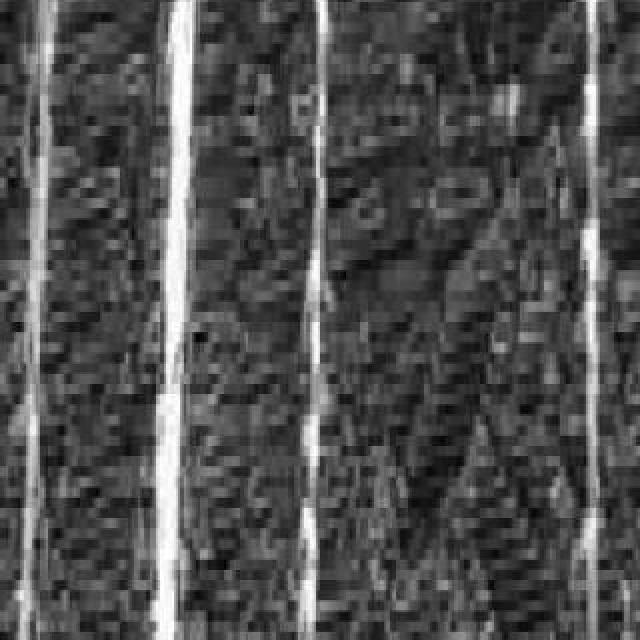Electrical-damage: (574, 4, 627, 640), (303, 11, 328, 640), (17, 22, 41, 630), (165, 3, 179, 635)
